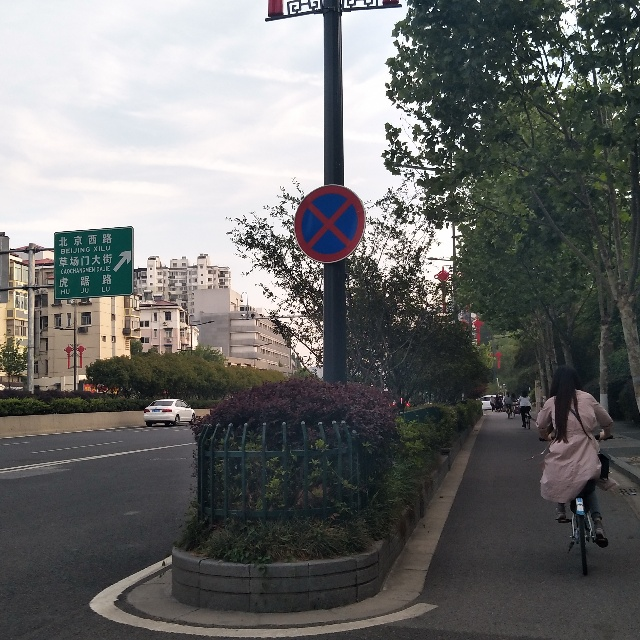stop: (299, 186, 359, 258)
